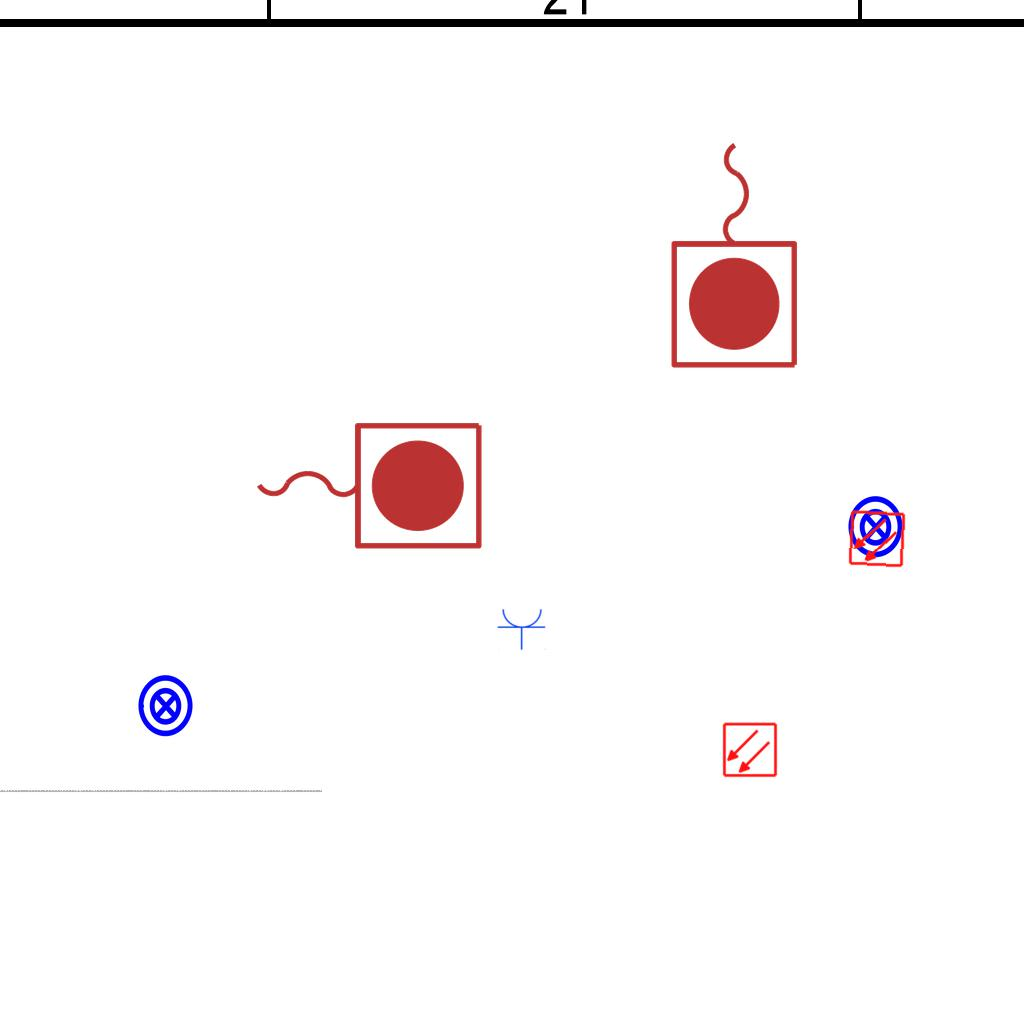RMO_Rauchmelder_optischer: (847, 509, 907, 569), (722, 722, 778, 778)
Schukosteckdose_einfach: (497, 607, 547, 650)
Taster_beleuchtet: (133, 673, 199, 739), (843, 494, 909, 560)
Zugtaster: (246, 412, 490, 556), (664, 132, 808, 376)
